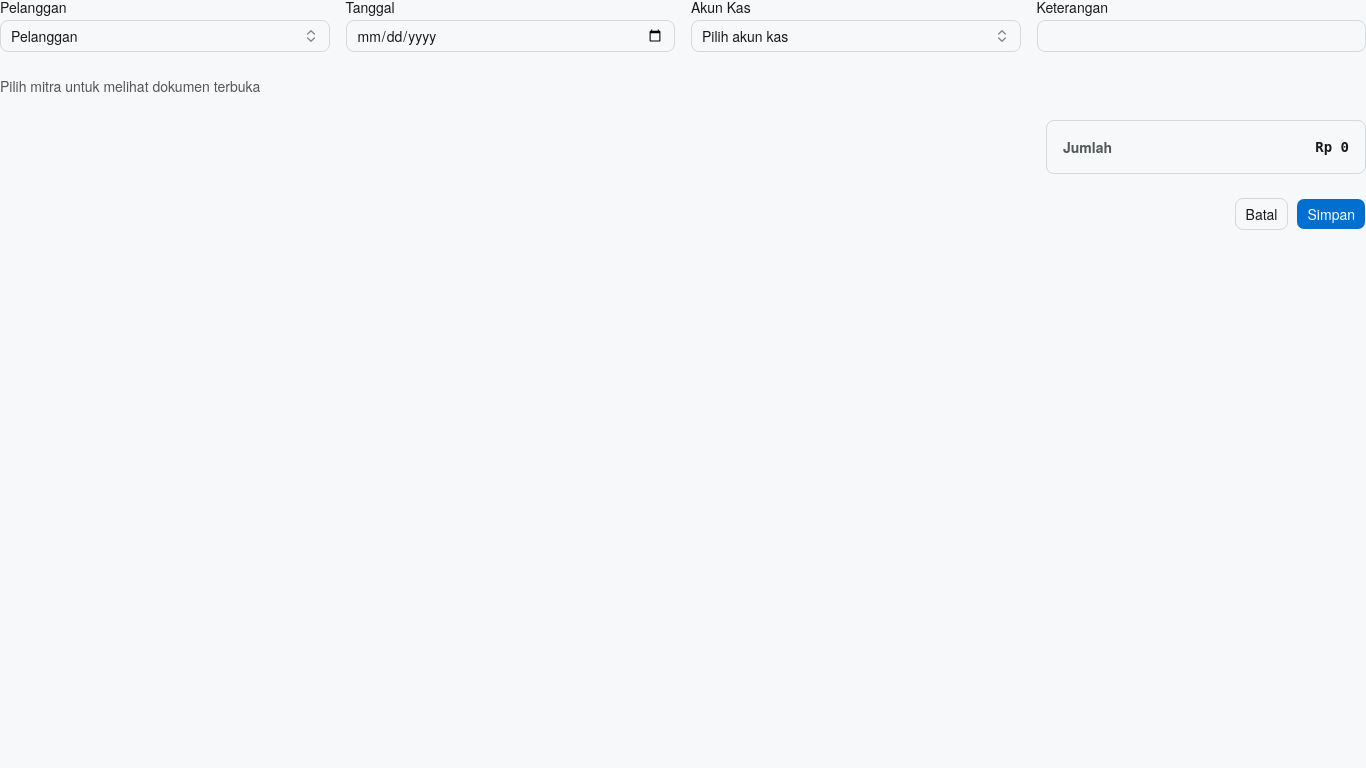
Scenario: blocks save when nothing is allocated
Click the dropdown labelled "Pelanggan". click: x=44, y=36
box: [0,20,330,52]
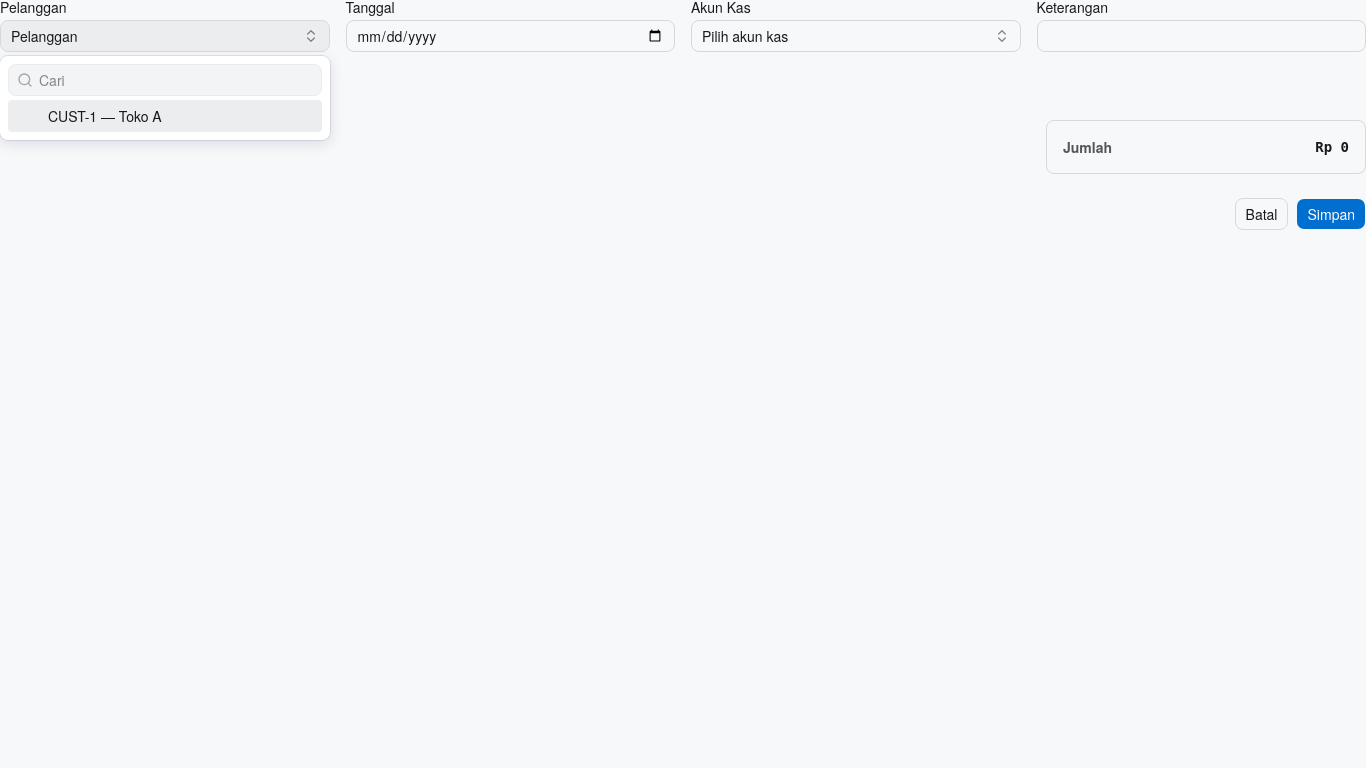
Click the option "CUST-1 — Toko A". click: x=105, y=116
box: [8,100,322,132]
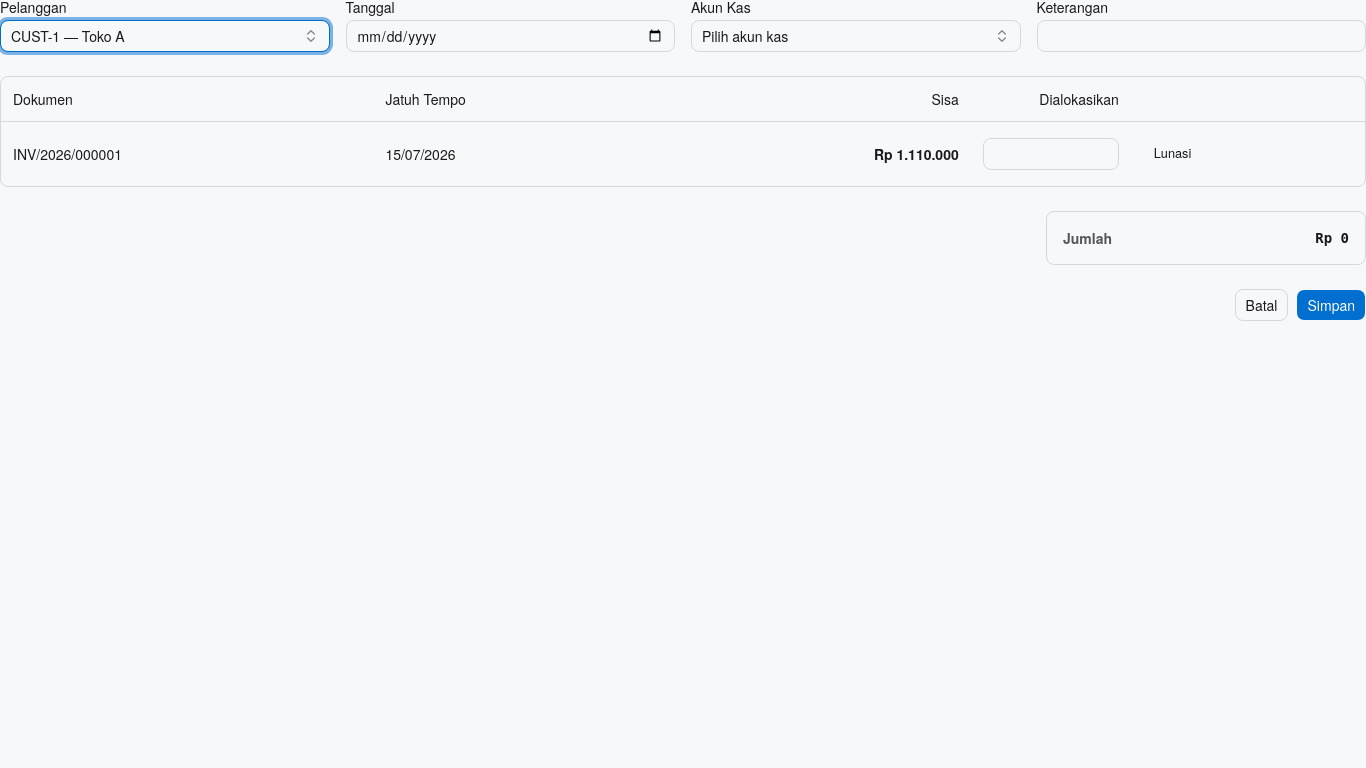
Type "2026-06-16" into the date field labelled "Tanggal". click: x=510, y=36
box: [346,20,675,52]
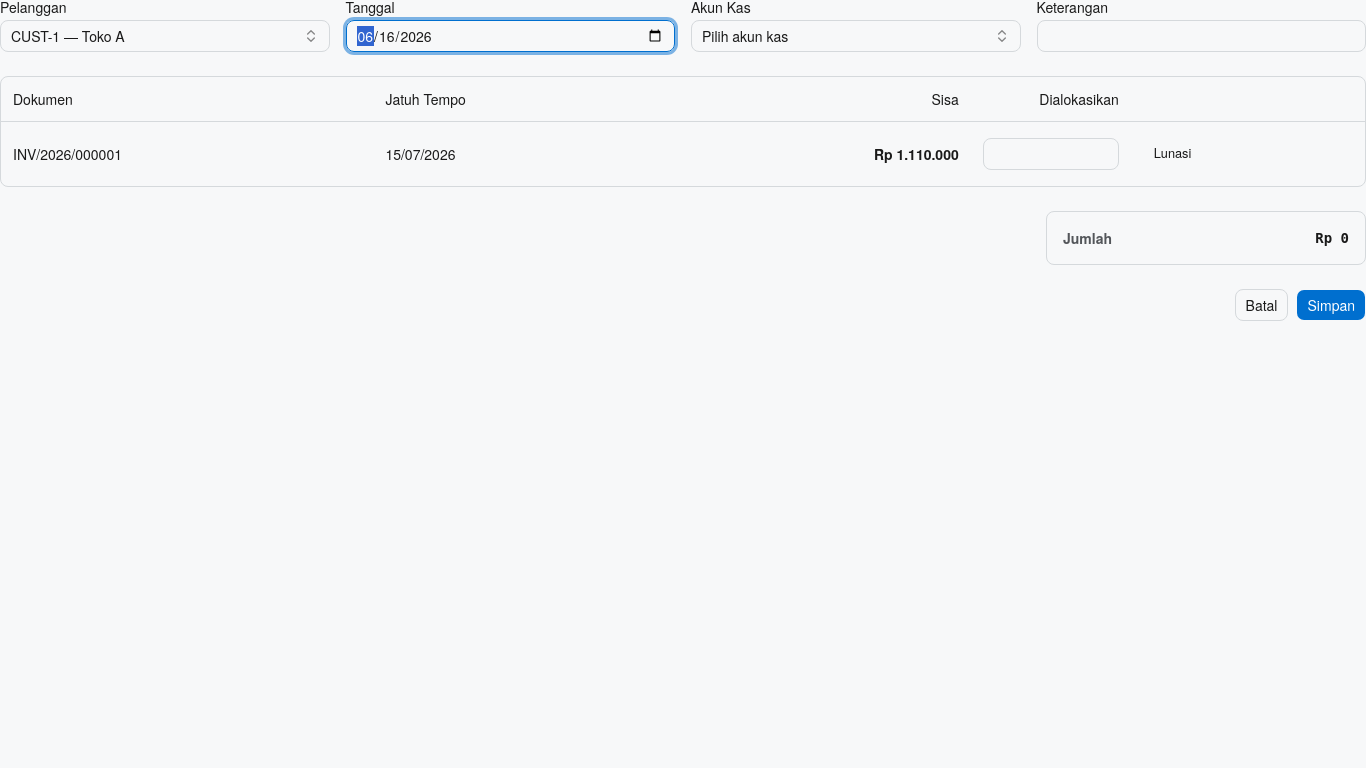
Click the dropdown labelled "Pilih akun kas". click: x=745, y=36
box: [691,20,1020,52]
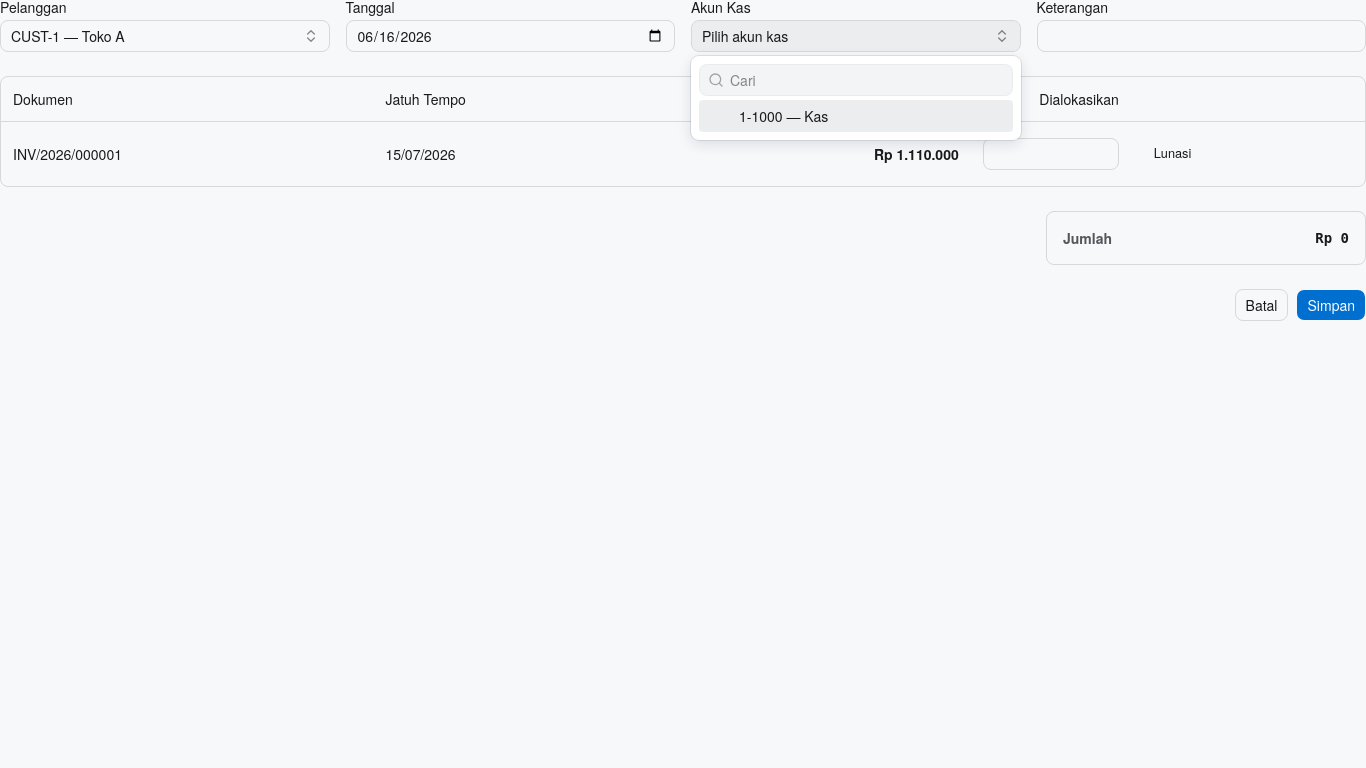
Click the option "1-1000 — Kas". click: x=784, y=116
box: [699,100,1012,132]
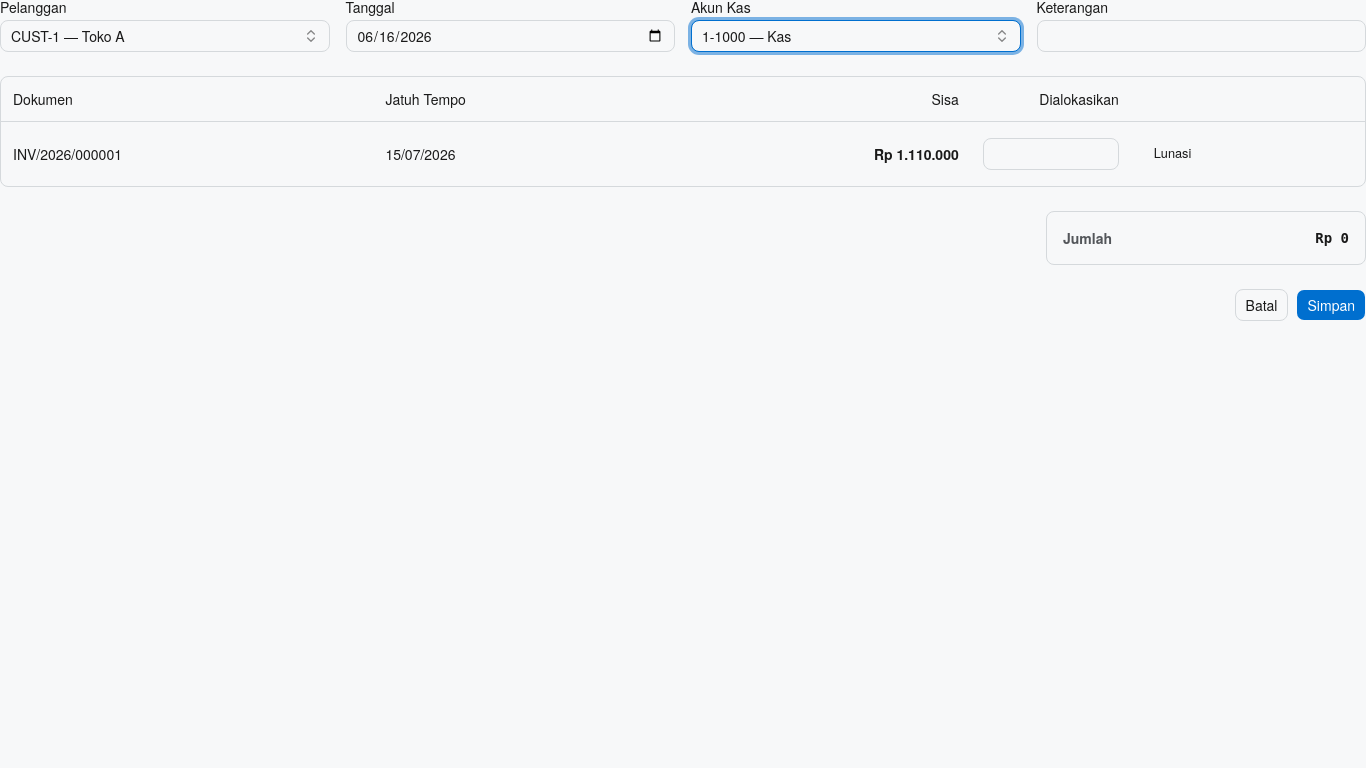
Click the button "Simpan". click: x=1331, y=304
box: [1296,288,1365,320]
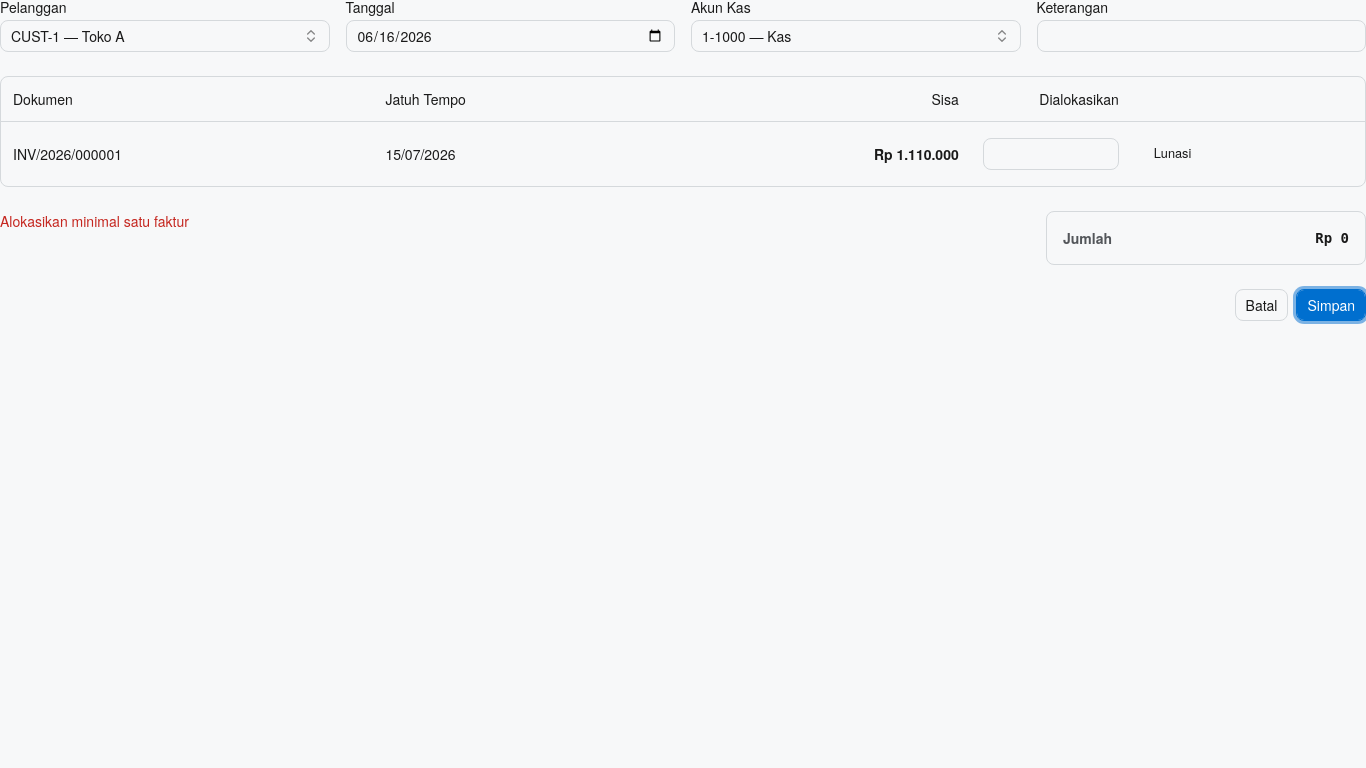
Now the text "Alokasikan minimal satu faktur" is shown, box [0,210,189,230]
